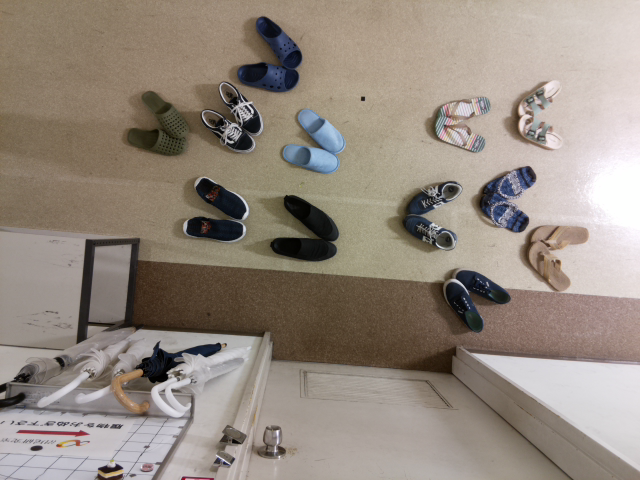Copy of Copy of Copy of Copy of Copy of Copy of Copy of Copy of shoes: (404, 180, 463, 215)
Copy of Copy of Copy of Copy of Copy of Copy of Copy of sandal: (516, 78, 563, 118)
Copy of Copy of Copy of Copy of Copy of Copy of Copy of shoes: (403, 213, 458, 250)
Copy of Copy of Copy of Copy of Copy of Copy of sandal: (518, 114, 565, 149)
Copy of Copy of Copy of Copy of Copy of Copy of shoes: (452, 267, 511, 303)
Copy of Copy of Copy of Copy of Copy of sandal: (529, 223, 589, 248)
Copy of Copy of Copy of Copy of Copy of shoes: (442, 277, 483, 333)
Copy of Copy of Copy of Copy of Copy of slipper: (296, 108, 345, 154)
Copy of Copy of Copy of Copy of sandal: (527, 240, 572, 292)
Copy of Copy of Copy of Copy of shoes: (283, 193, 339, 239)
Copy of Copy of Copy of Copy of slipper: (281, 144, 339, 174)
Copy of Copy of Copy of sandal: (481, 164, 536, 202)
Copy of Copy of Copy of shoes: (268, 235, 337, 261)
Copy of Copy of Copy of slipper: (235, 63, 300, 92)
Copy of Copy of sandal: (479, 195, 529, 234)
Copy of Copy of shoes: (217, 79, 262, 136)
Copy of Copy of slipper: (253, 16, 302, 68)
Copy of sandal: (435, 95, 492, 121)
Copy of shoes: (199, 107, 255, 152)
Copy of slipper: (141, 89, 186, 138)
sandal: (433, 114, 486, 151)
shoes: (194, 175, 250, 220), (183, 214, 247, 244)
slipper: (128, 126, 187, 154)
